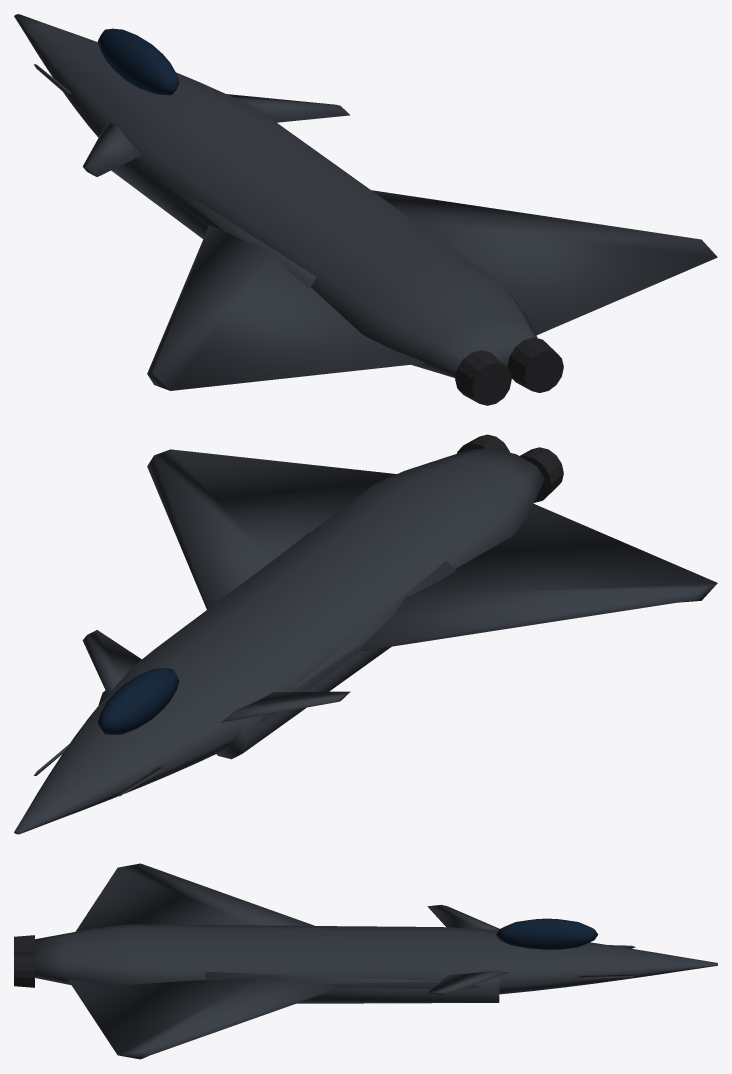
3 views of the same model, one above another, from view 1: azimuth 30°, elevation 25°; view 2: azimuth 150°, elevation 25°; view 3: azimuth 270°, elevation 25° (orthographic). The views are drawn at different scales.
Visible parts, largest first — view 1: Body, Detail, Canopy; view 2: Body, Canopy, Detail; view 3: Body, Canopy, Detail.
Boxes of the visible parts, box(x1,y1,x2,y2) form: Body: box(14, 14, 717, 390); Detail: box(455, 337, 563, 405); Canopy: box(97, 28, 179, 95); Body: box(14, 448, 717, 834); Canopy: box(97, 668, 179, 734); Detail: box(457, 434, 563, 502); Body: box(34, 863, 717, 1059); Canopy: box(496, 918, 598, 949); Detail: box(14, 935, 34, 987).
Size of the model in its own units: 13 by 2.09 by 20.6.
